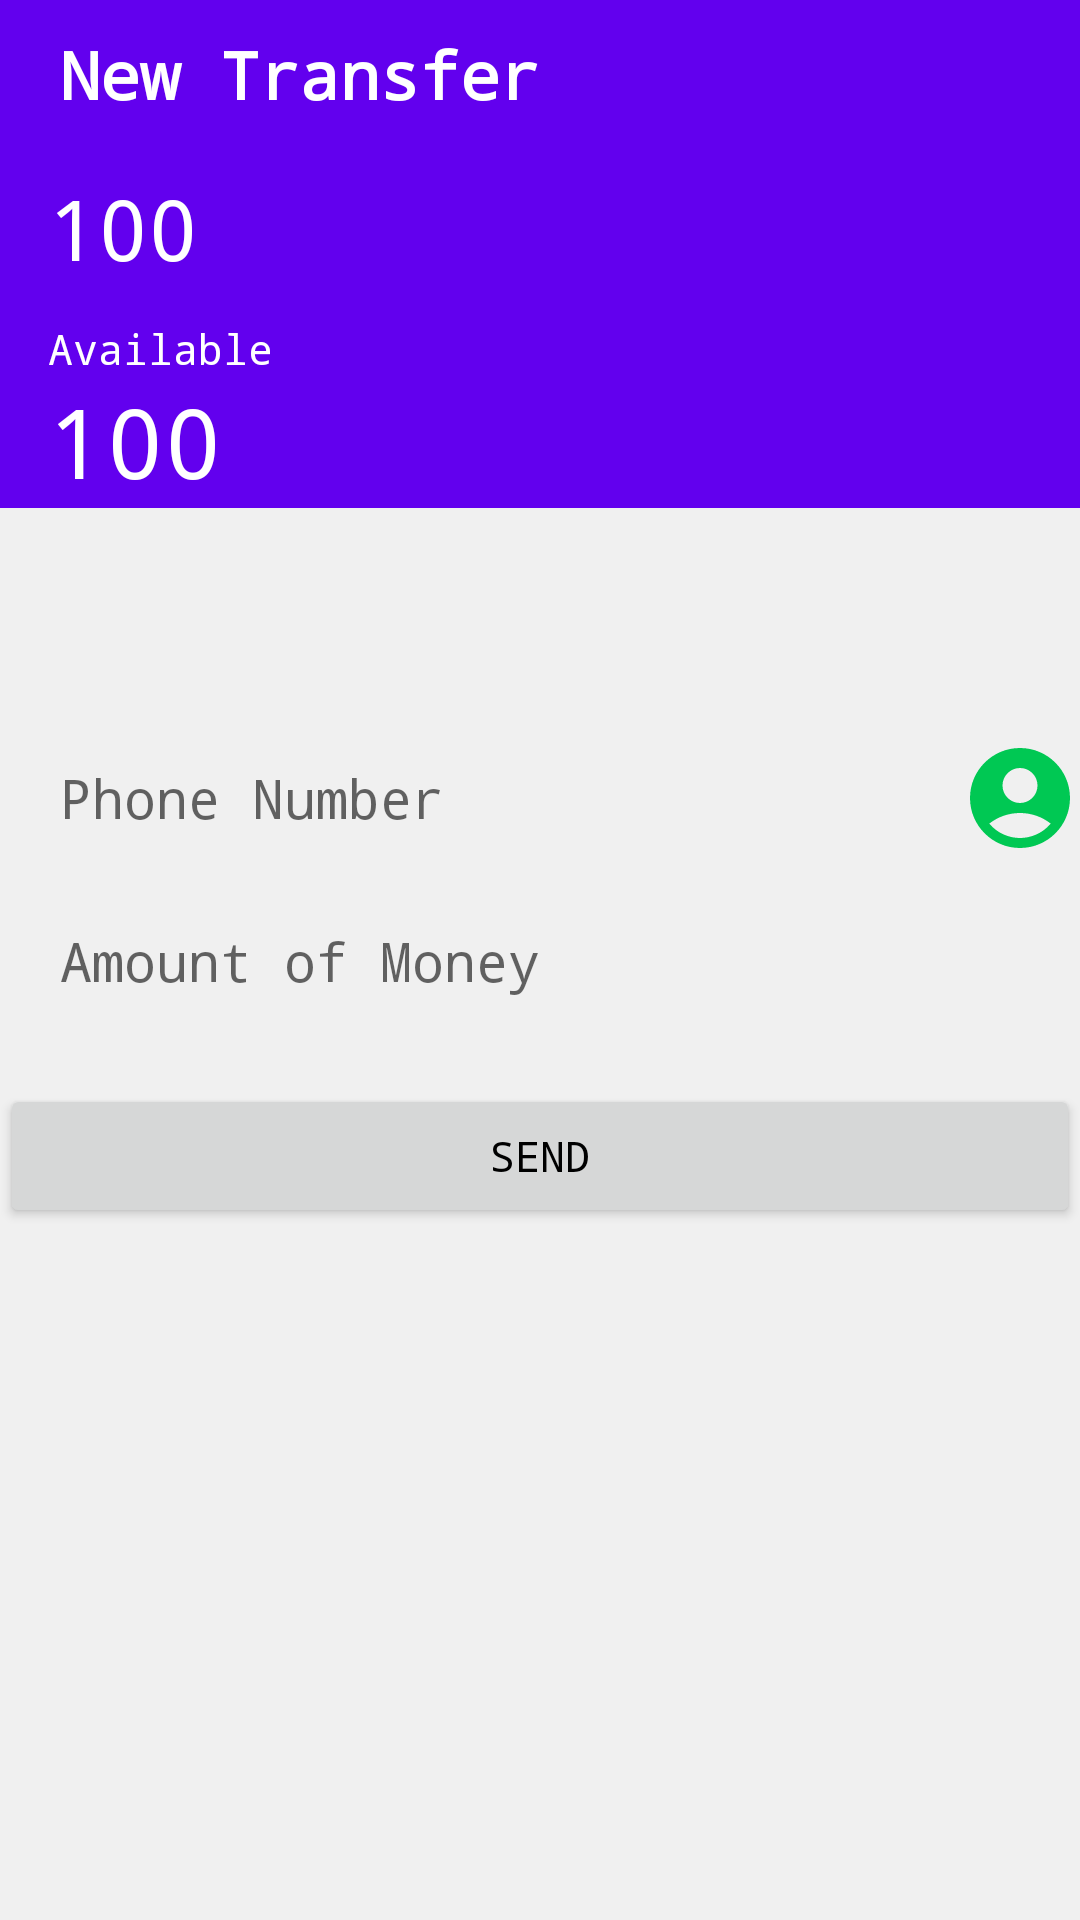

Screen size 1080px×1920px. Icon name, then its center in pixels as [x,y]:
Contact Icon: [1020,798]
